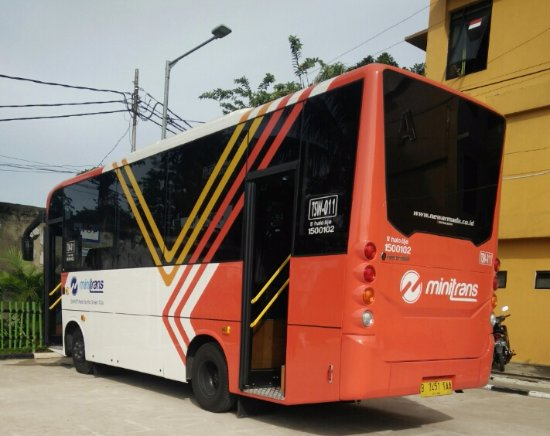plate: (422, 379, 453, 393)
